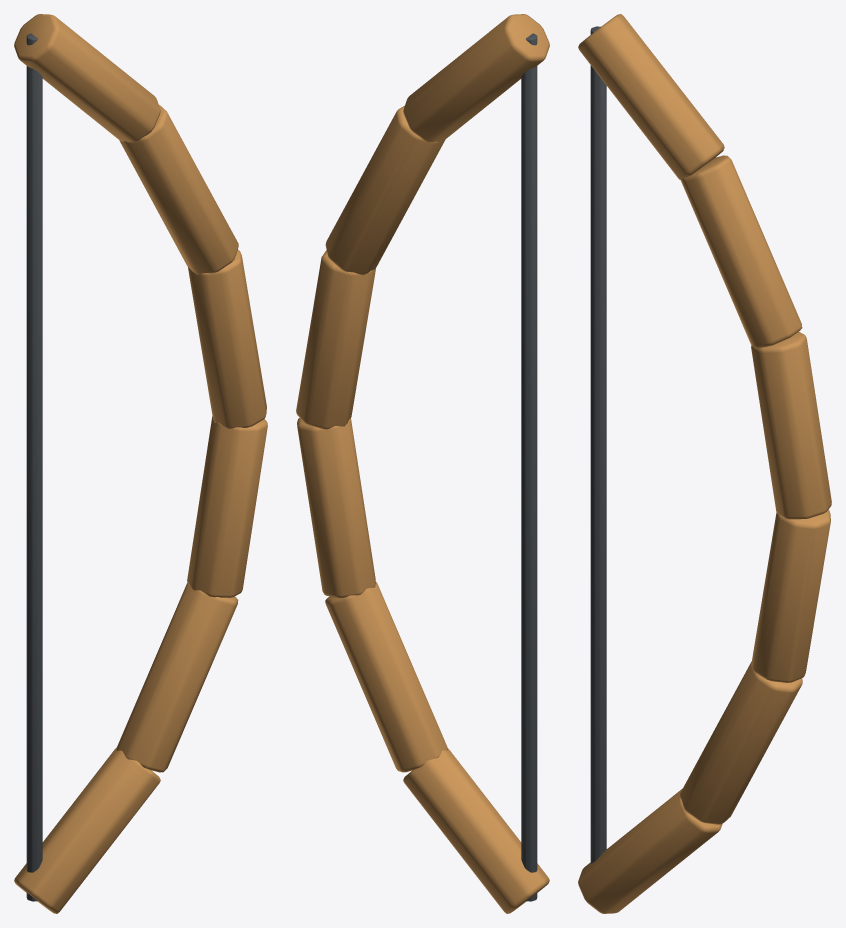
Rendered from bow.glb.
The picture shows the model from 3 angles, left to right: view 1: azimuth 30°, elevation 25°; view 2: azimuth 150°, elevation 25°; view 3: azimuth 330°, elevation 25°; orthographic projection.
Visible parts, largest first — view 1: bow_wood_light, bow_string; view 2: bow_wood_light, bow_string; view 3: bow_wood_light, bow_string.
Boxes of the visible parts, left/top/right/bottom form: bow_wood_light: left=14, top=14, right=267, bottom=913; bow_string: left=26, top=33, right=42, bottom=901; bow_wood_light: left=296, top=14, right=549, bottom=913; bow_string: left=521, top=33, right=537, bottom=901; bow_wood_light: left=578, top=14, right=831, bottom=913; bow_string: left=590, top=26, right=606, bottom=863.
Bounding box in the file's own units: 0.464 × 1.62 × 0.0926.
